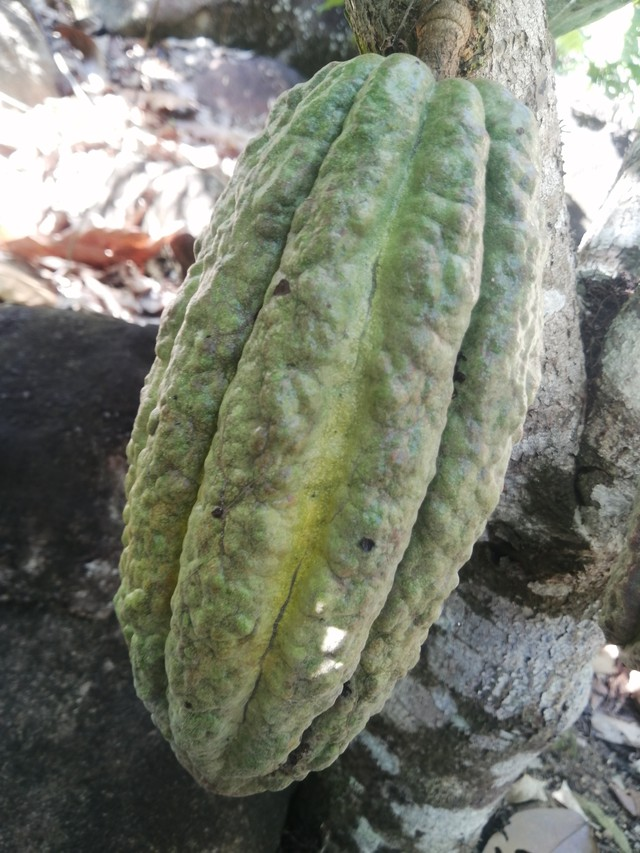Health: (76, 35, 563, 816)
